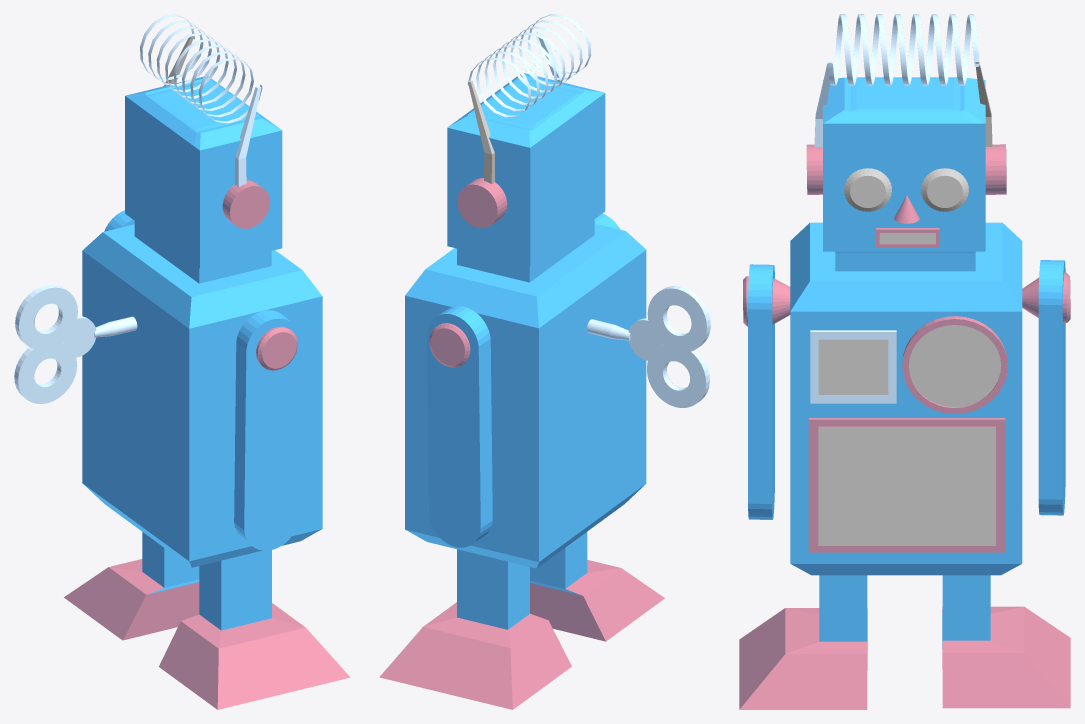
The model's file is robot toy.fbx.
The picture shows the model from 3 angles, left to right: view 1: azimuth 30°, elevation 25°; view 2: azimuth 150°, elevation 25°; view 3: azimuth 270°, elevation 25°; orthographic projection. The views are drawn at different scales.
Visible parts, largest first — view 1: Cube, Cube.007, Cylinder.008, Cube.006, Circle, Cylinder.010, Cylinder.009, Cylinder, Cylinder.002, Cube.002, Cylinder.011, Cylinder.012; view 2: Cube, Cube.006, Cylinder.007, Cube.007, Circle, Cylinder.009, Cylinder.010, Cylinder.001, Cylinder.003, Cube.001, Cylinder.011, Cylinder.012; view 3: Cube, Cube.004, Cube.006, Cube.007, Cylinder.006, Cylinder.007, Cylinder.008, Circle, Cube.005, Cylinder.004, Cylinder.005, Cylinder.001 (+7 smaller).
Boxes of the visible parts, x1,y1,x2,y2 form: Cube: [82, 76, 322, 567]; Cube.007: [159, 550, 350, 709]; Cylinder.008: [234, 310, 300, 550]; Cube.006: [64, 532, 199, 640]; Circle: [140, 14, 262, 123]; Cylinder.010: [14, 341, 77, 403]; Cylinder.009: [15, 284, 77, 348]; Cylinder: [222, 180, 270, 228]; Cylinder.002: [256, 326, 297, 370]; Cube.002: [235, 86, 261, 186]; Cylinder.011: [62, 316, 96, 357]; Cylinder.012: [94, 316, 137, 337]; Cube: [405, 73, 646, 568]; Cube.006: [379, 549, 571, 709]; Cylinder.007: [427, 306, 492, 547]; Cube.007: [530, 532, 664, 641]; Circle: [467, 14, 591, 117]; Cylinder.009: [647, 286, 710, 352]; Cylinder.010: [647, 345, 709, 407]; Cylinder.001: [457, 178, 507, 228]; Cylinder.003: [429, 323, 470, 367]; Cube.001: [468, 80, 494, 184]; Cylinder.011: [628, 318, 662, 360]; Cylinder.012: [587, 319, 630, 340]; Cube: [790, 77, 1022, 575]; Cube.004: [808, 418, 1005, 552]; Cube.006: [942, 575, 1070, 708]; Cube.007: [739, 575, 867, 709]; Cylinder.006: [902, 316, 1007, 413]; Cylinder.007: [1038, 260, 1065, 515]; Cylinder.008: [748, 264, 774, 519]; Circle: [827, 14, 979, 85]; Cube.005: [810, 330, 896, 403]; Cylinder.004: [844, 168, 891, 211]; Cylinder.005: [921, 168, 968, 211]; Cylinder.001: [985, 144, 1006, 194].
Size of the model in its own units: 154 by 149 by 335.
